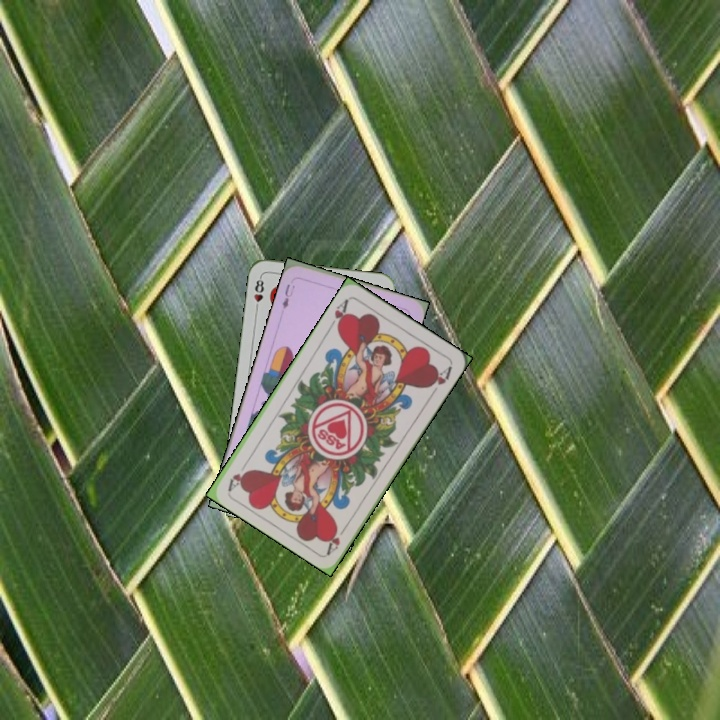EU: (278, 275, 297, 312)
H8: (250, 273, 266, 313)
HA: (323, 519, 351, 556), (325, 295, 351, 332)
